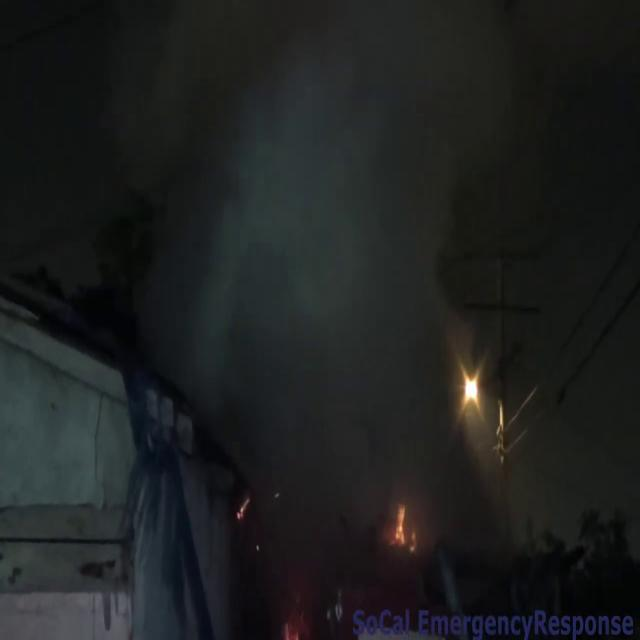Fire: (388, 497, 419, 554), (460, 363, 483, 414)
Smoke: (20, 0, 502, 582)
